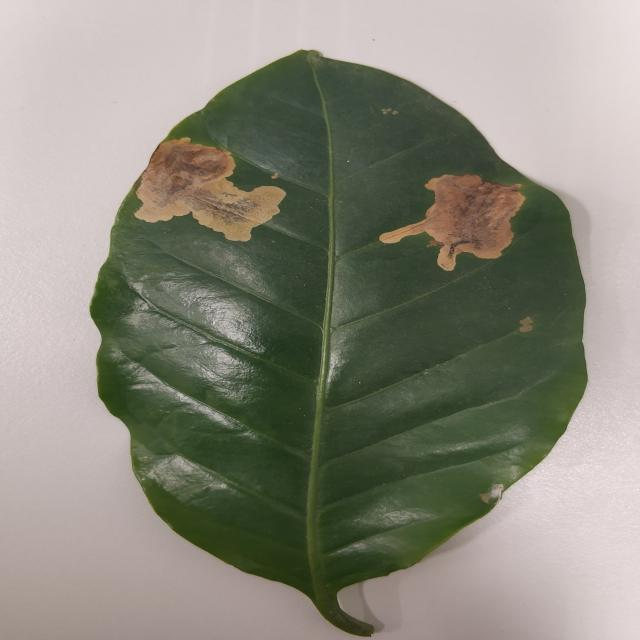Plaga-Minador: (88, 51, 588, 626)
